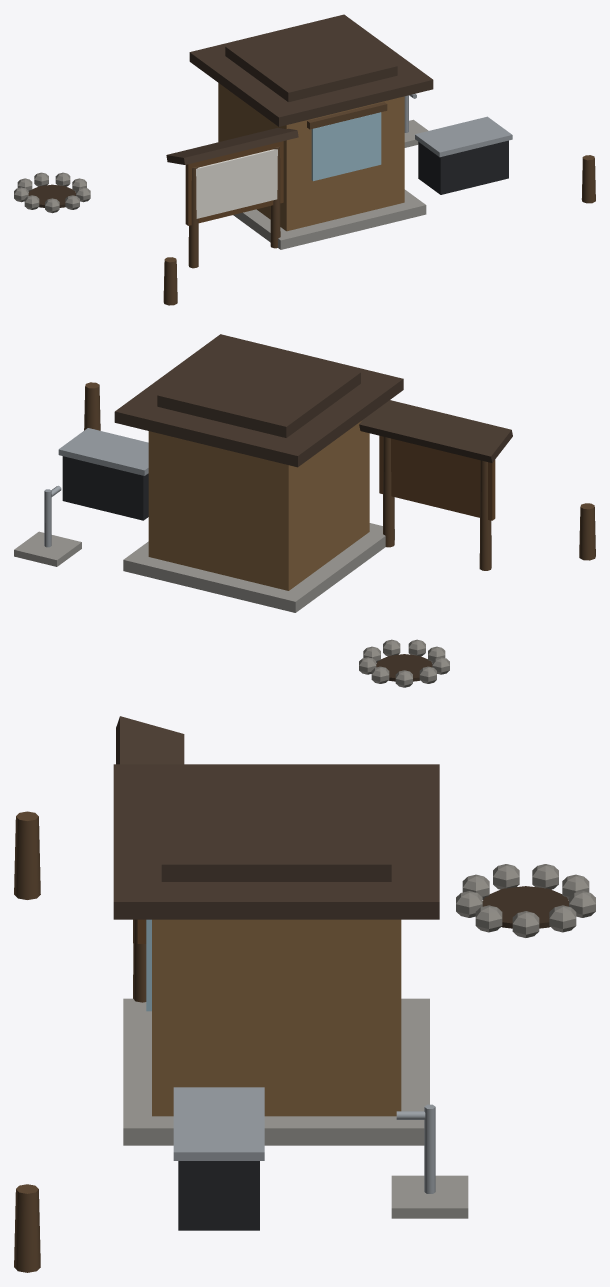
Rendered from campground_hub.glb.
3 renders of one model, top to bottom at view 1: azimuth 30°, elevation 25°; view 2: azimuth 150°, elevation 25°; view 3: azimuth 270°, elevation 25°, orthographic. The views are drawn at different scales.
Parts seen in each view (by area): view 1: campground_hub, glass_pane, fire_ring; view 2: campground_hub, fire_ring; view 3: campground_hub, fire_ring.
Boxes of the visible parts, x1,y1,x2,y2 form: campground_hub: (163,14,595,305); glass_pane: (311,112,381,181); fire_ring: (14,172,90,213); campground_hub: (14,334,595,612); fire_ring: (359,639,449,687); campground_hub: (14,716,468,1272); fire_ring: (456,864,595,937).
Size of the model in its own units: 9.67 by 3.07 by 6.07.
